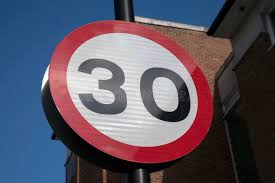Speed_limit_30km: (49, 19, 213, 163)
